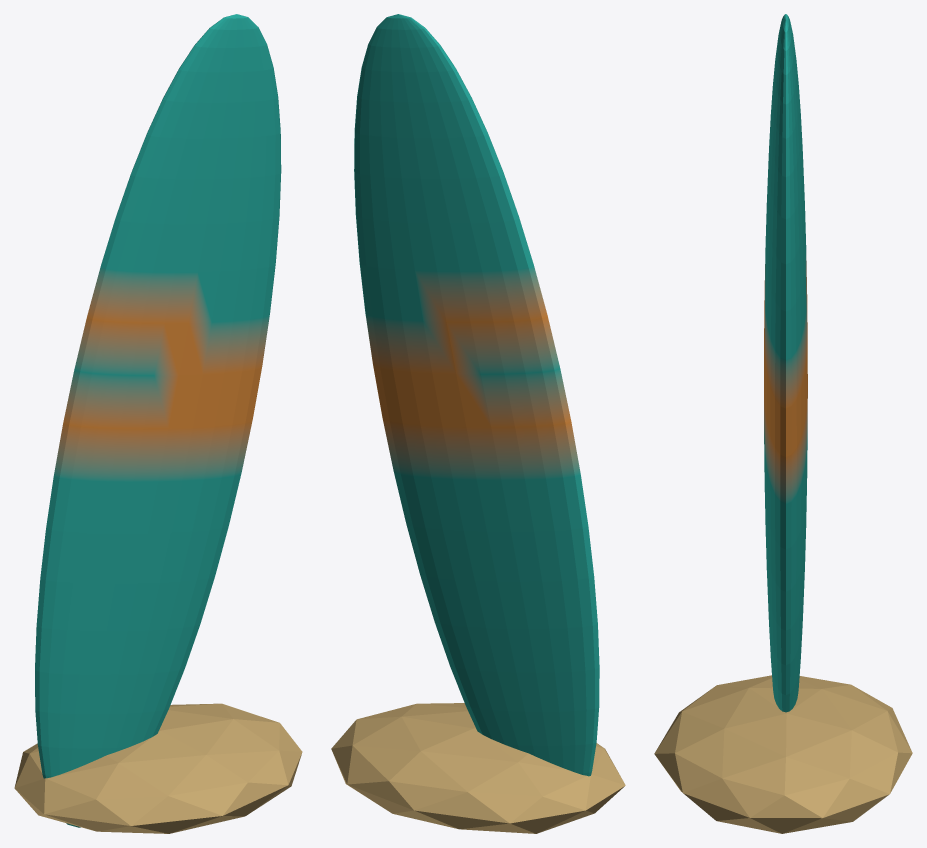
The model's file is beach_surfboard.glb.
The picture shows the model from 3 angles, left to right: view 1: azimuth 30°, elevation 25°; view 2: azimuth 150°, elevation 25°; view 3: azimuth 270°, elevation 25°; orthographic projection. The views are drawn at different scales.
Visible parts, largest first — view 1: Surfboard; view 2: Surfboard; view 3: Surfboard.
Part boxes in pixels (x1,y1,x2,y2): Surfboard: [14, 14, 302, 833]; Surfboard: [331, 14, 625, 833]; Surfboard: [654, 14, 912, 833].
Bounding box in the file's own units: 0.8591 × 2.45 × 0.7046.
